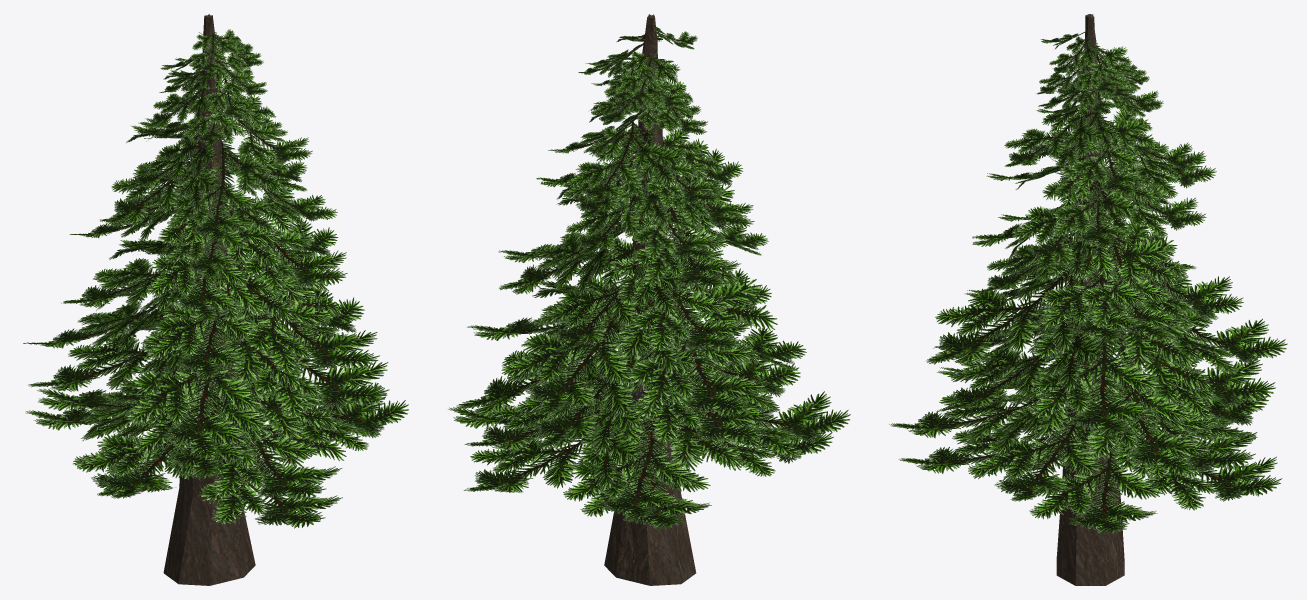
File: BigPineTree.fbx
The picture shows the model from 3 angles, left to right: view 1: azimuth 30°, elevation 25°; view 2: azimuth 150°, elevation 25°; view 3: azimuth 270°, elevation 25°; orthographic projection.
Parts seen in each view (by area): view 1: Cube; view 2: Cube; view 3: Cube.
Boxes of the visible parts, box(x1,y1,x2,y2) form: Cube: box(23, 14, 408, 585); Cube: box(448, 14, 850, 585); Cube: box(889, 14, 1287, 585).
Size of the model in its own units: 891 by 1374 by 922.
